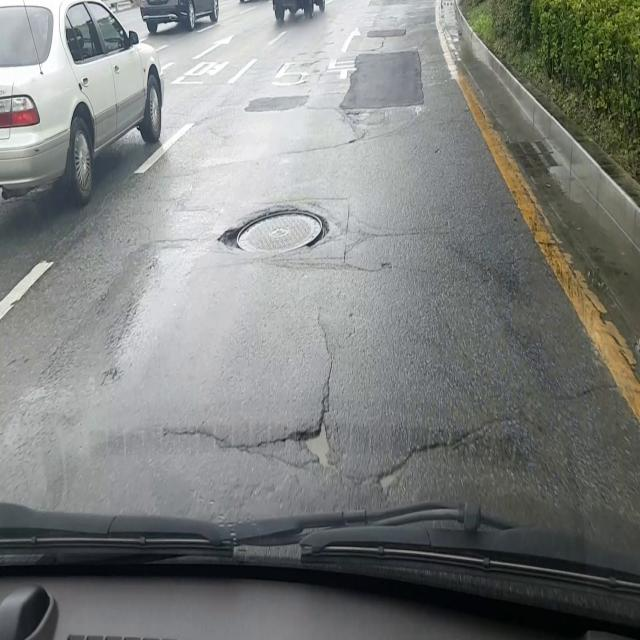Pothole: (215, 203, 333, 257)
